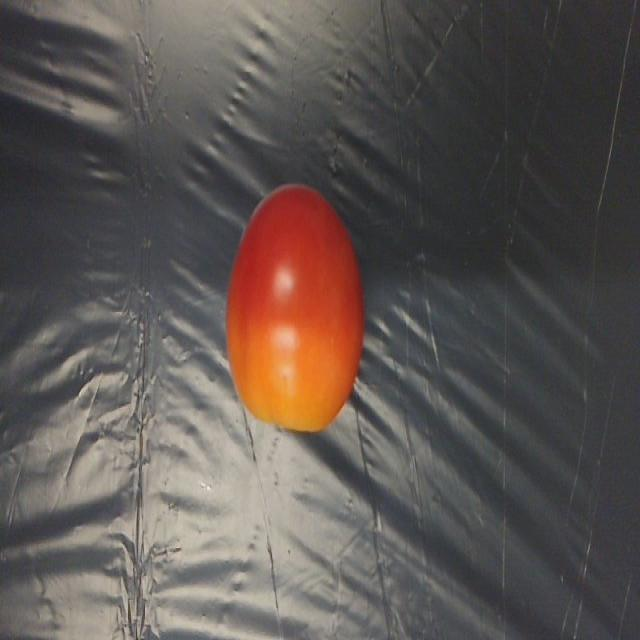sari: (210, 166, 381, 459)
